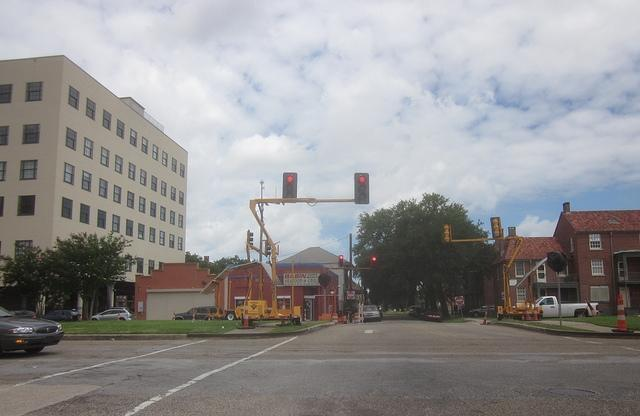car: (1, 306, 64, 356), (172, 306, 224, 320), (92, 308, 132, 322), (44, 309, 82, 322), (364, 305, 384, 323), (419, 308, 443, 321), (412, 308, 423, 318)
truck: (535, 296, 599, 318), (497, 303, 525, 320)
